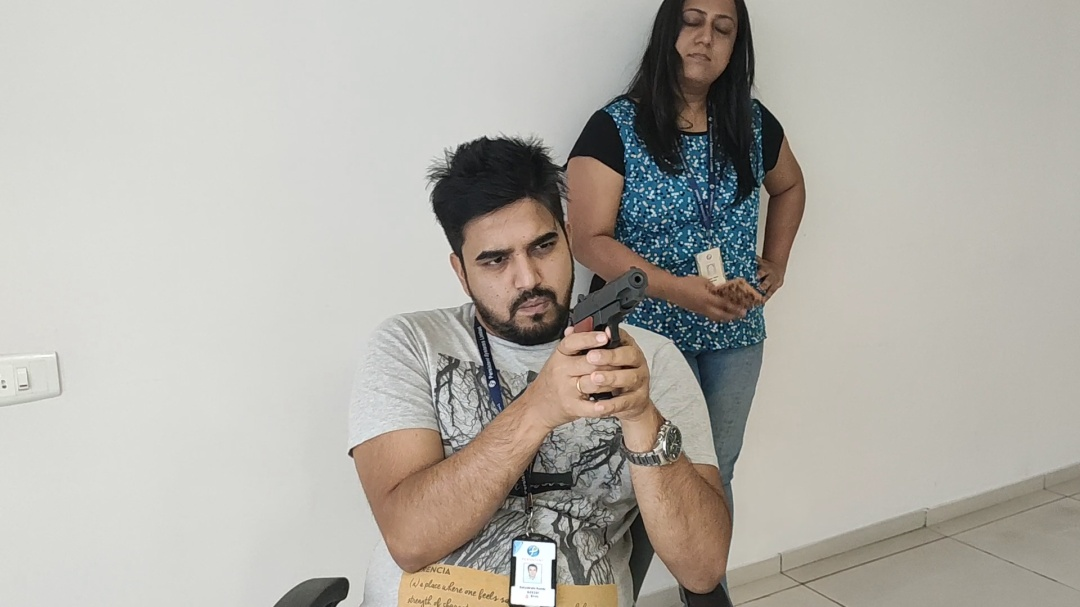gun: (572, 265, 648, 346)
